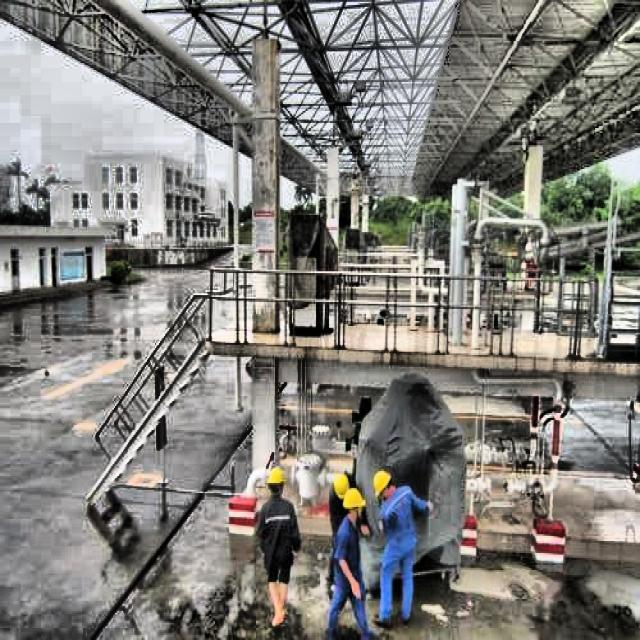helmet: (368, 469, 400, 502), (341, 485, 368, 522), (265, 466, 289, 498), (329, 473, 353, 500)
